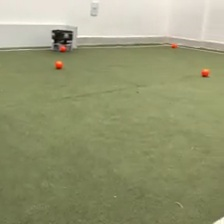ball: (58, 43, 67, 53), (54, 59, 63, 68), (201, 67, 209, 77), (170, 41, 178, 49)
goal: (1, 20, 79, 50)
robot: (49, 28, 75, 52)
